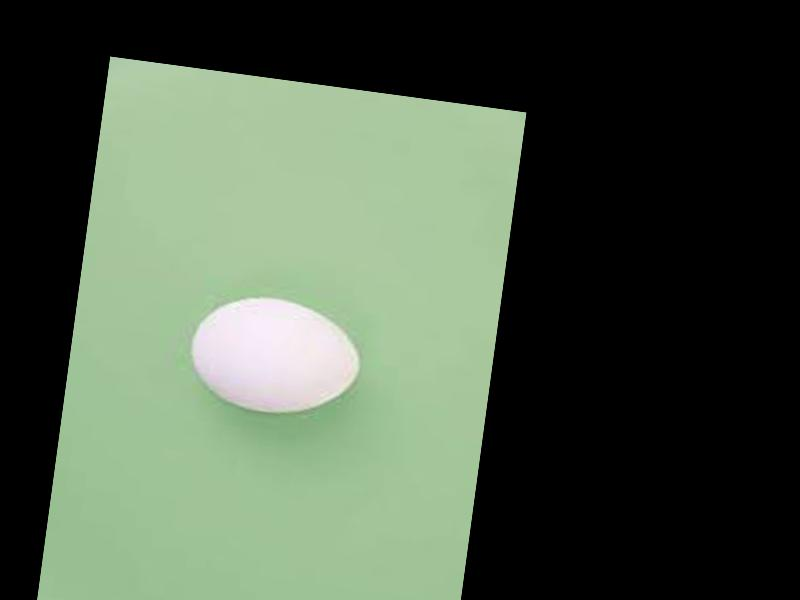Eggs: (182, 288, 366, 425)
